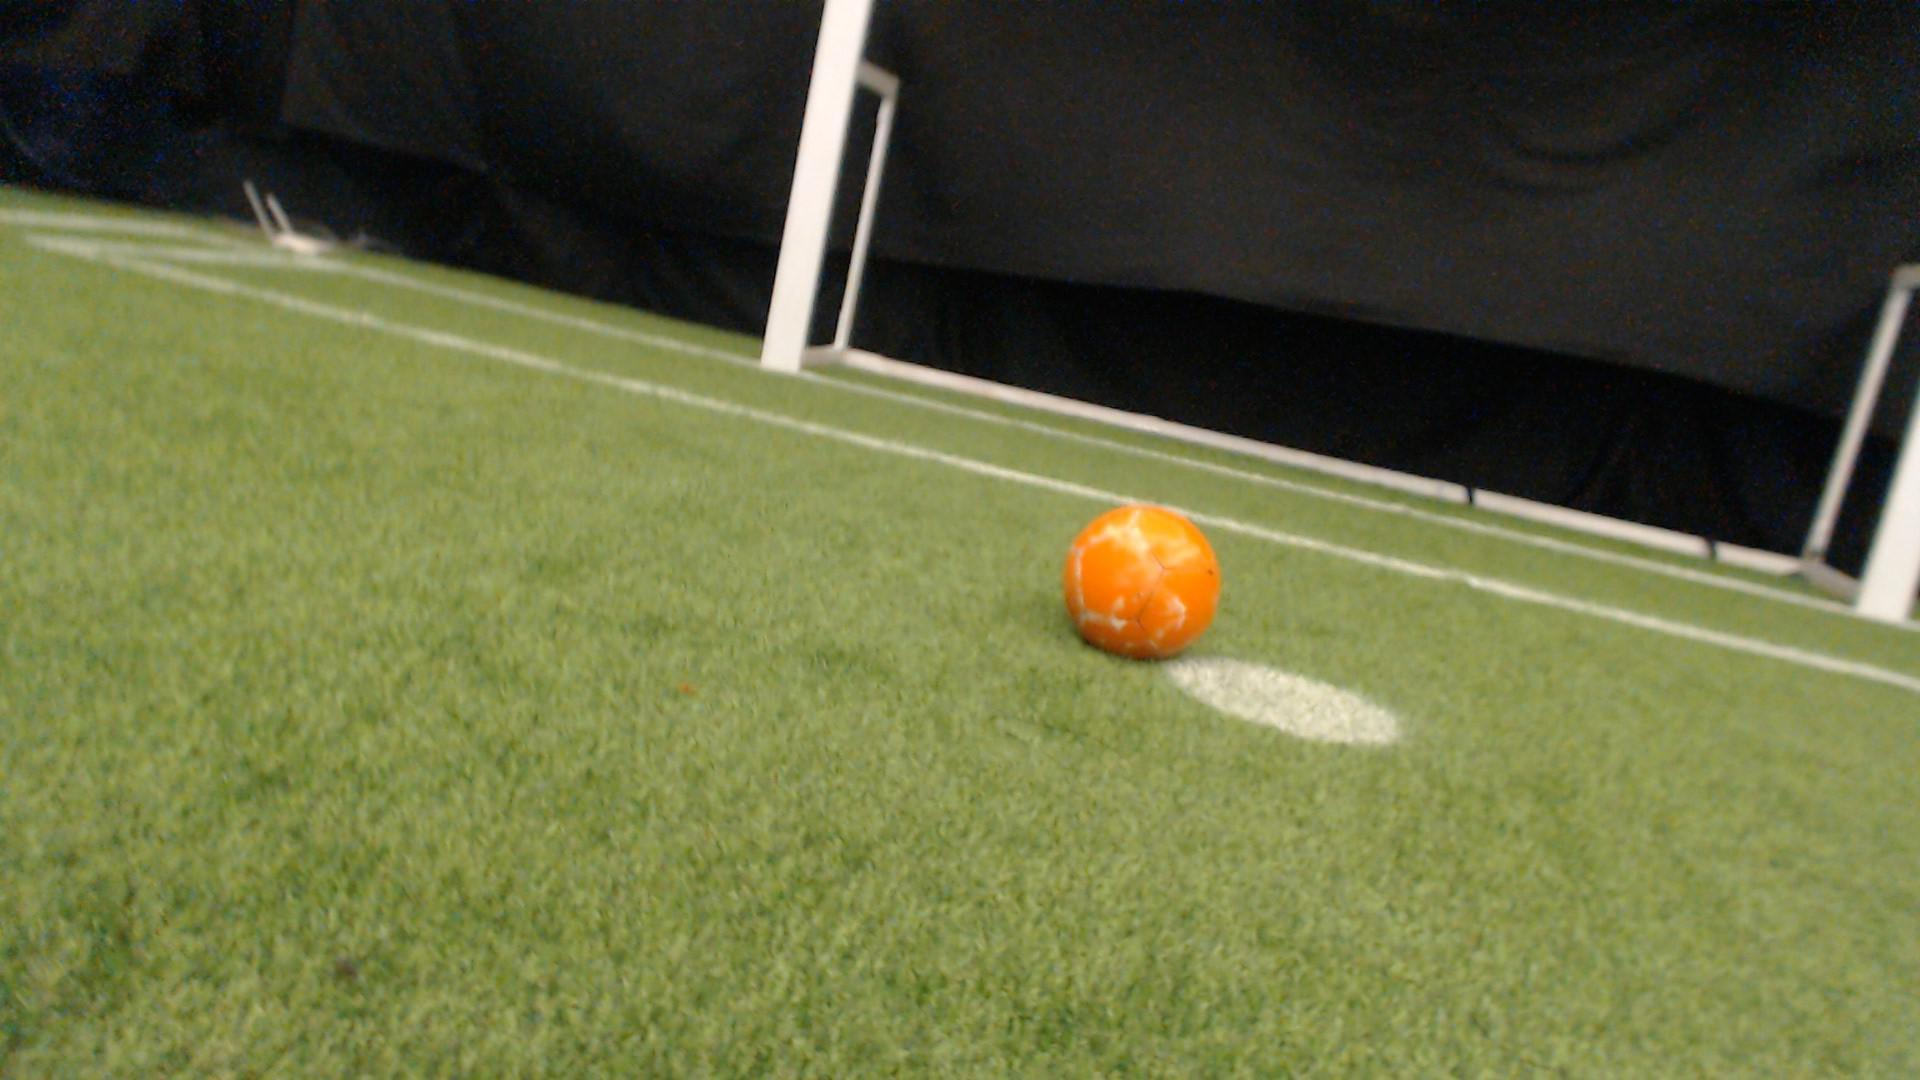bola: (1051, 492, 1244, 665)
